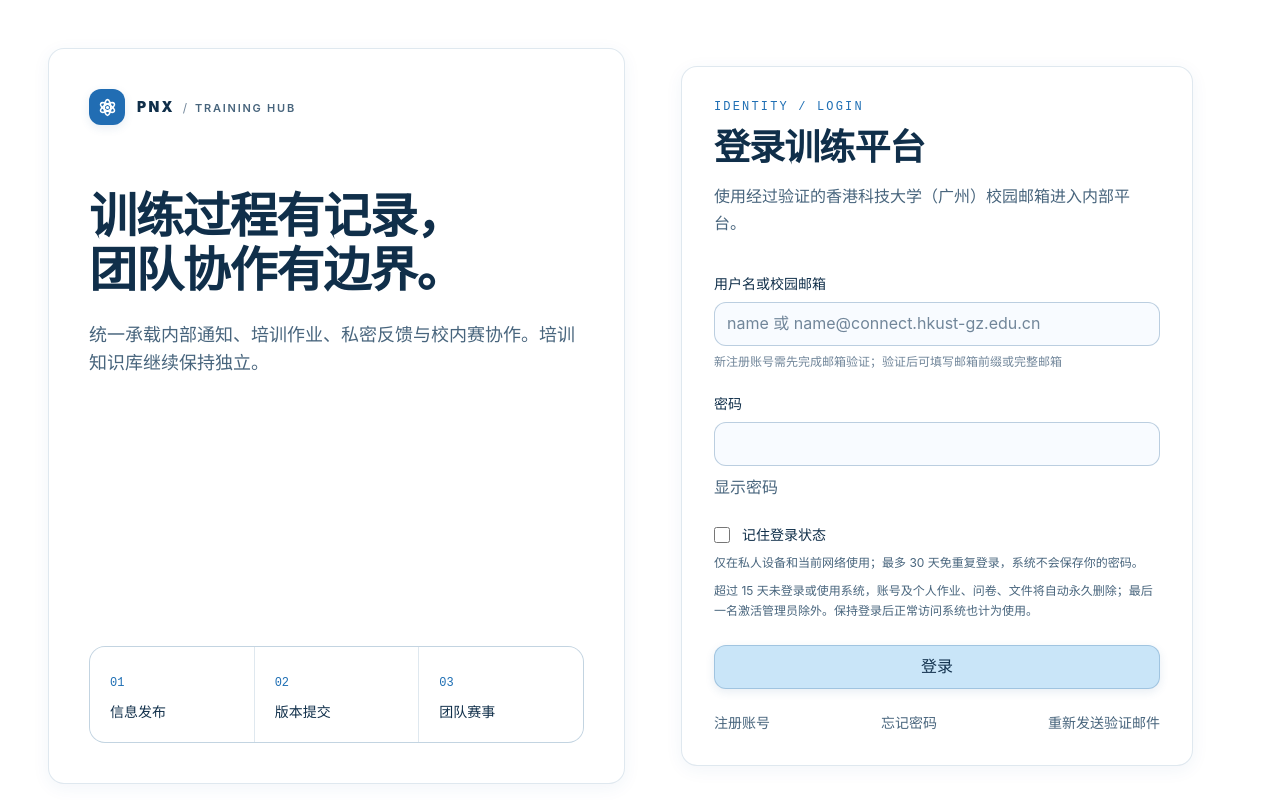
Test case: login page › shows the message from a local runtime error
The width and height of the screenshot is (1280, 800).
Type "admin@connect.hkust-gz.edu.cn" into the field labelled "用户名或校园邮箱" at (937, 324), box [714, 302, 1160, 346]
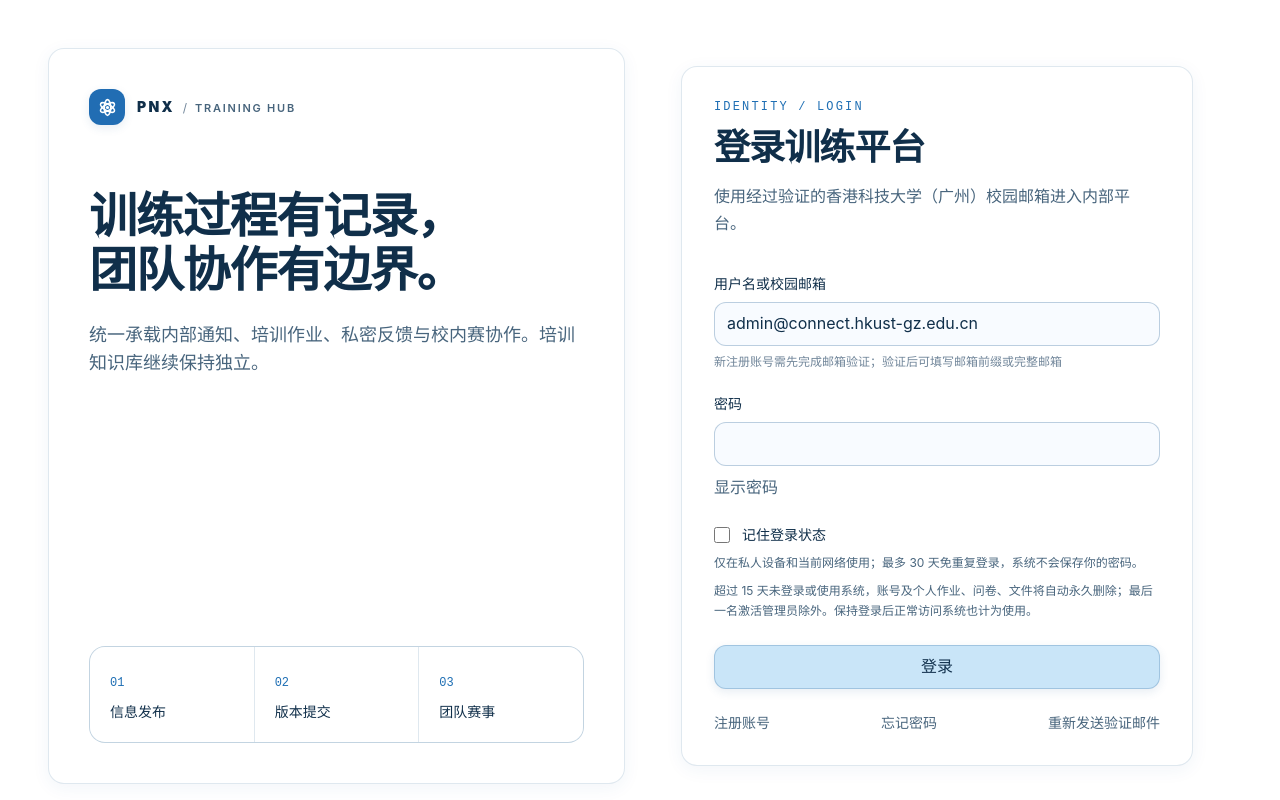
Type "correct-password" into the password field labelled "密码" at (937, 444), box [714, 422, 1160, 466]
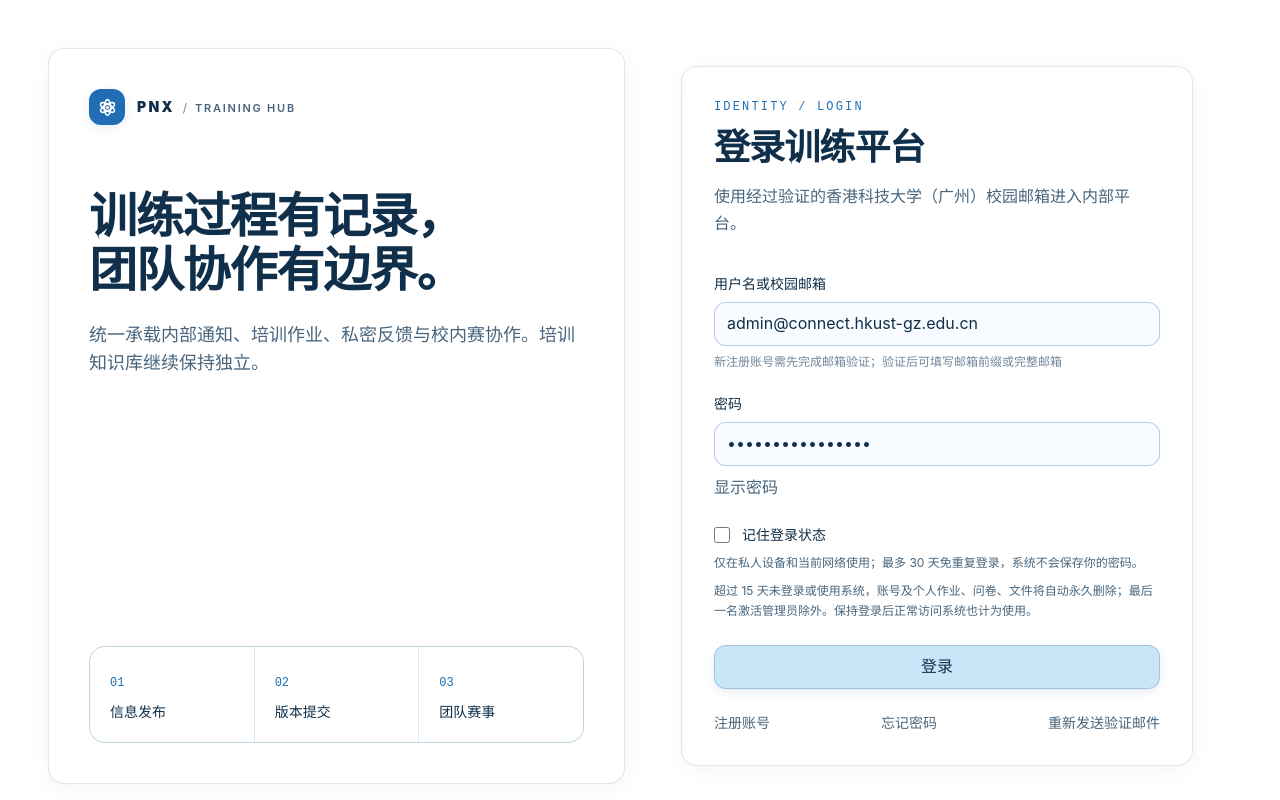
Click the button "登录" at (937, 667), box [714, 645, 1160, 689]
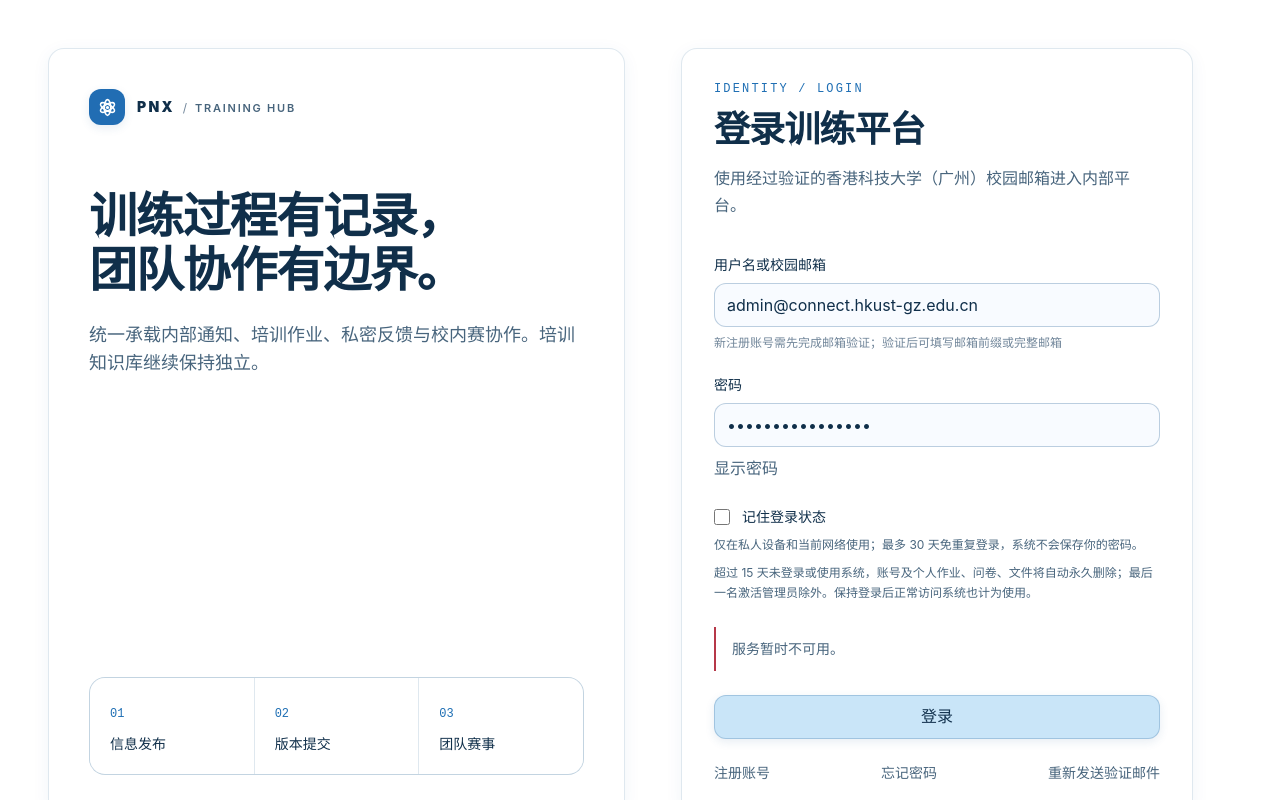
Check: the message reads "服务暂时不可用。", box [732, 640, 844, 657]
